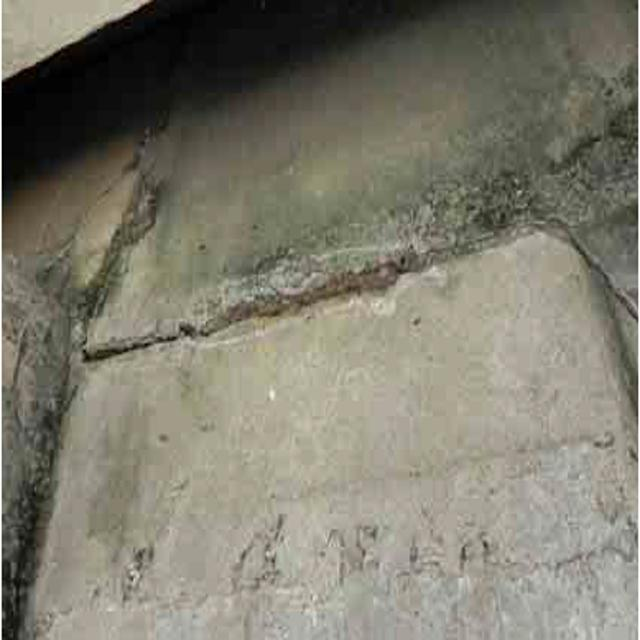spalling: (59, 243, 437, 371)
